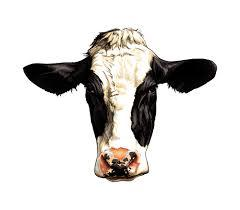cow: (23, 28, 217, 183)
